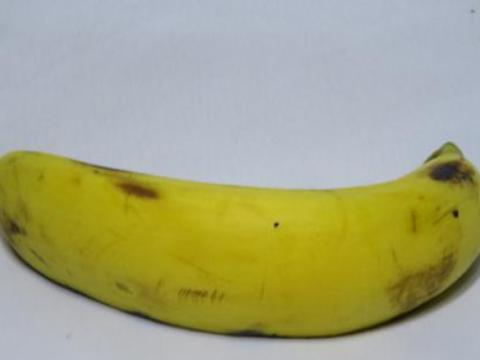freshripe: (0, 118, 479, 344)
